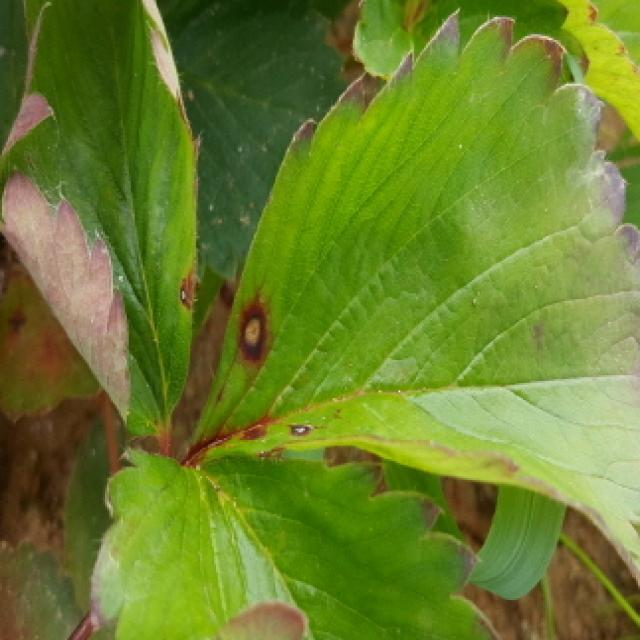Leaf Spot: (184, 8, 640, 587), (0, 0, 200, 437)
